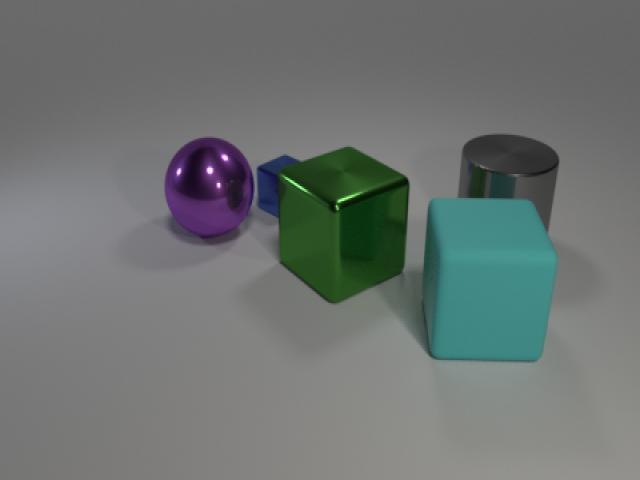cylinder: (454, 125, 564, 261)
round ball: (160, 130, 256, 244)
